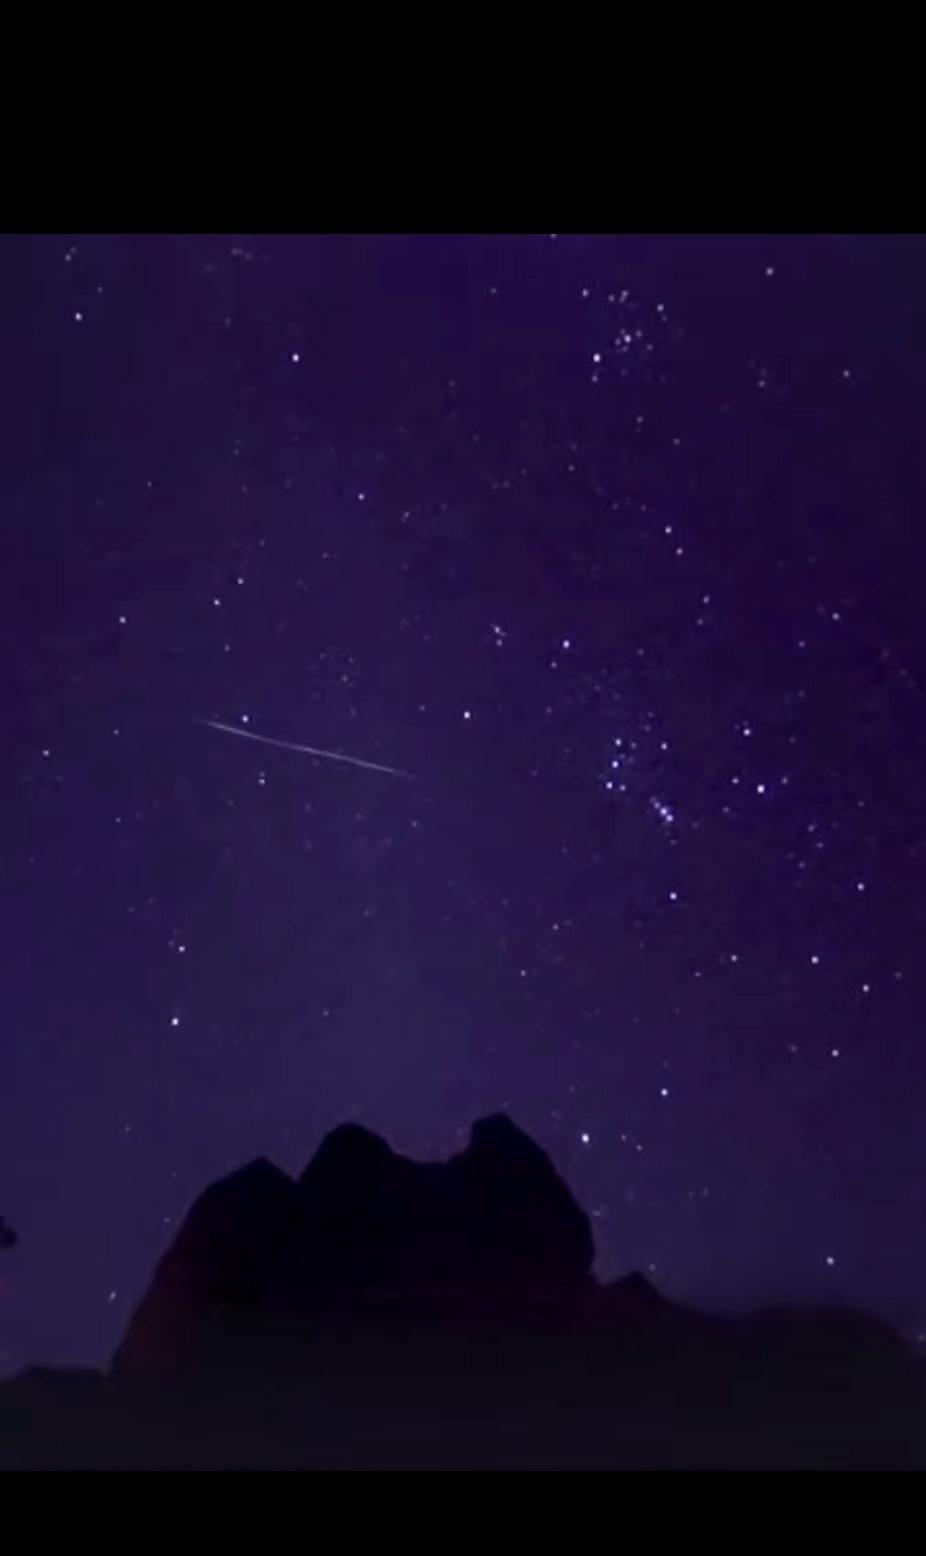meteorite: (202, 720, 429, 789)
